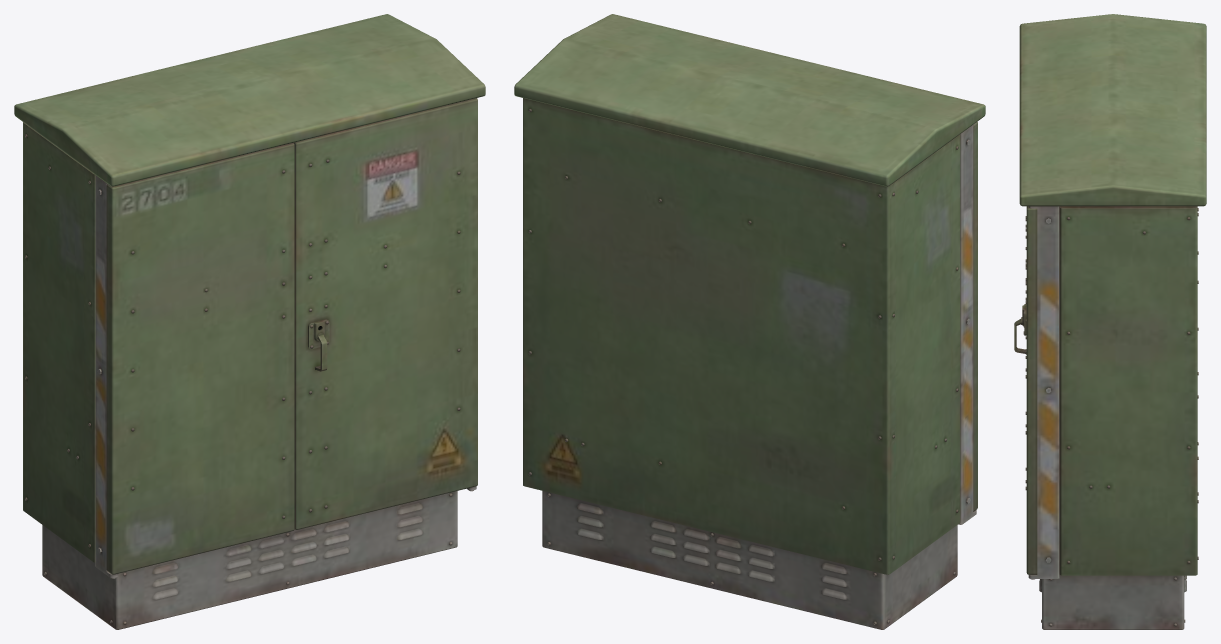
The model's file is utility_box_02.gltf.
3 views of the same model, side by side, from view 1: azimuth 30°, elevation 25°; view 2: azimuth 150°, elevation 25°; view 3: azimuth 270°, elevation 25° (orthographic). The views are drawn at different scales.
Visible parts, largest first — view 1: utility_box_02; view 2: utility_box_02; view 3: utility_box_02.
Part boxes in pixels (left/top/right/bottom): utility_box_02: left=14, top=14, right=485, bottom=629; utility_box_02: left=514, top=14, right=985, bottom=629; utility_box_02: left=1014, top=14, right=1206, bottom=629.
Bounding box in the file's own units: 0.92 × 1.12 × 0.432.
1 material, 1 textured.
